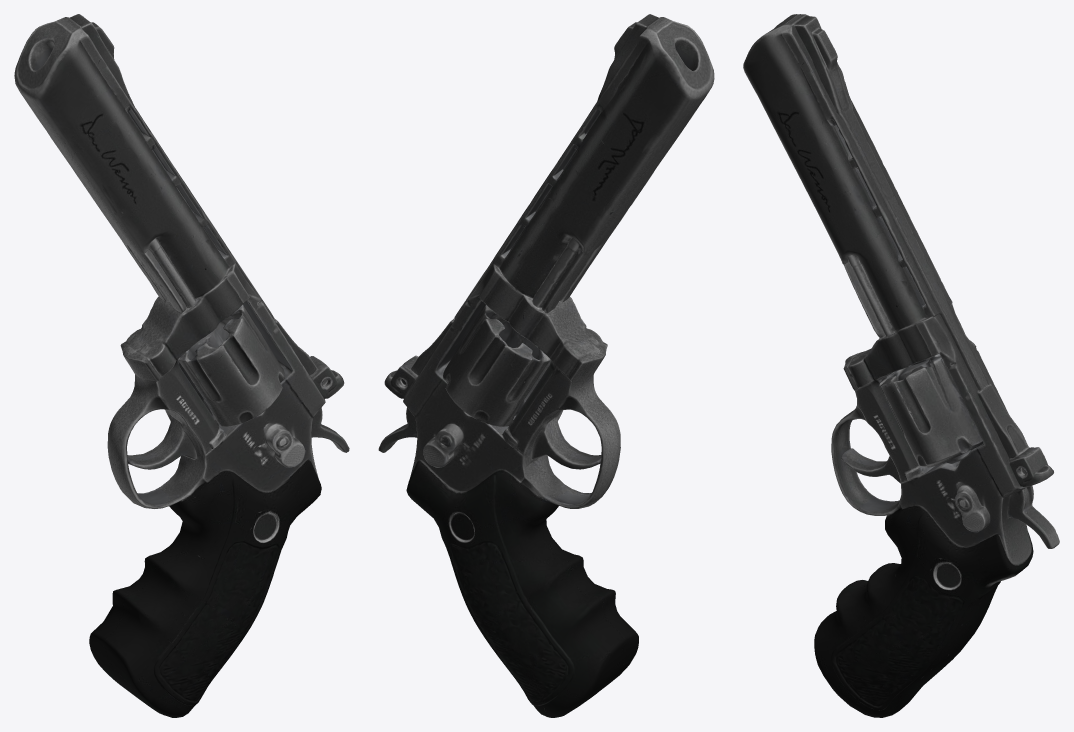
Rendered from revolver.glb.
The picture shows the model from 3 angles, left to right: view 1: azimuth 30°, elevation 25°; view 2: azimuth 150°, elevation 25°; view 3: azimuth 330°, elevation 25°; orthographic projection. The views are drawn at different scales.
Bounding box in the file's own units: 0.9035 × 1.9 × 0.2405.
Materials: 1 (1 with a texture image).
